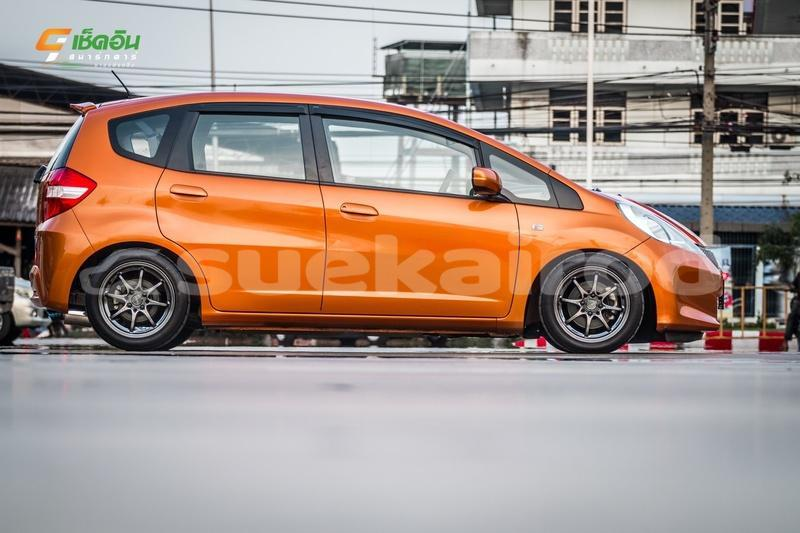Hatchback: (20, 78, 740, 368)
